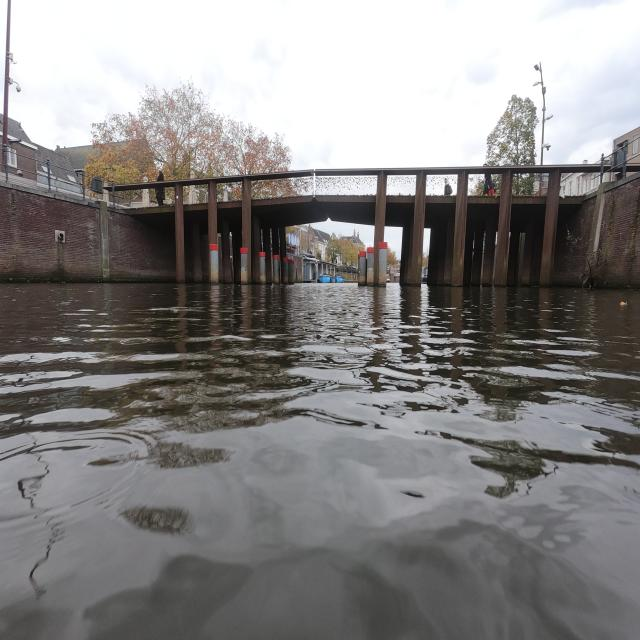sky: (10, 4, 638, 164)
wall: (2, 176, 174, 280), (546, 174, 638, 286)
water: (12, 290, 638, 634)
